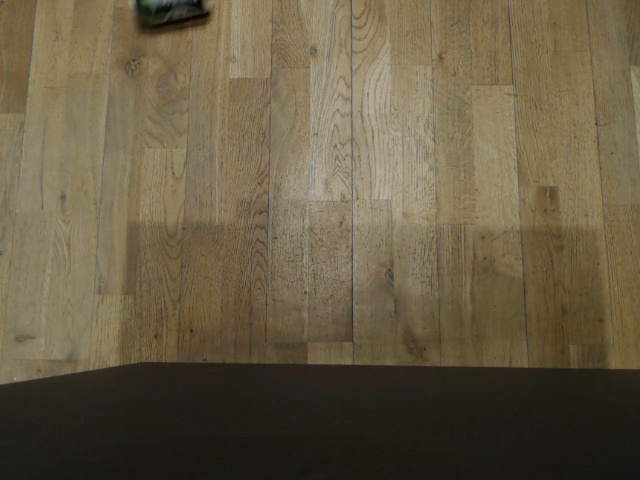beer: (127, 0, 215, 34)
